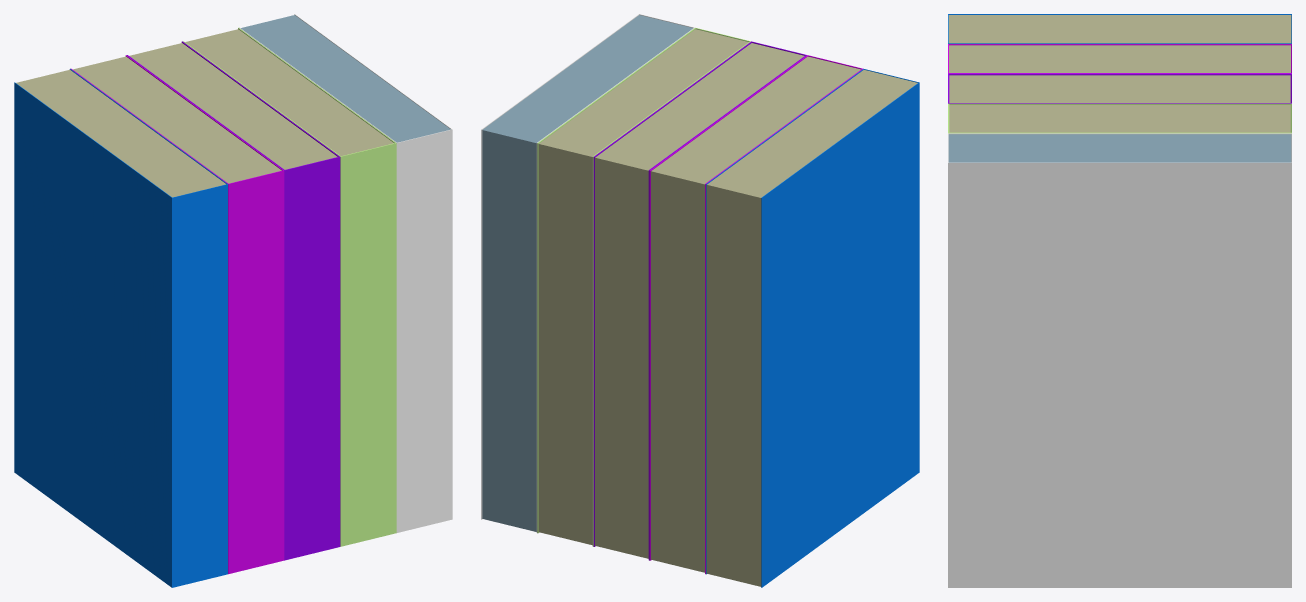
File: book-example.fbx
3 renders of one model, left to right at view 1: azimuth 30°, elevation 25°; view 2: azimuth 150°, elevation 25°; view 3: azimuth 270°, elevation 25°, orthographic. The views are drawn at different scales.
Parts seen in each view (by area): view 1: Book0, Book4, Book1, Book3, Book2; view 2: Book0, Book4, Book1, Book3, Book2; view 3: Book4, Book2, Book3, Book0, Book1.
Part boxes in pixels (<box>): Book0: <box>14,69,227,587</box>; Book4: <box>239,14,452,532</box>; Book1: <box>70,55,284,574</box>; Book3: <box>183,27,396,546</box>; Book2: <box>127,41,340,560</box>; Book0: <box>706,69,919,587</box>; Book4: <box>481,14,694,532</box>; Book1: <box>649,55,863,574</box>; Book3: <box>537,27,750,546</box>; Book2: <box>593,41,806,560</box>; Book4: <box>948,133,1291,587</box>; Book2: <box>948,73,1291,103</box>; Book3: <box>948,103,1291,133</box>; Book0: <box>948,14,1291,43</box>; Book1: <box>948,44,1291,73</box>.
Bounding box in the file's own units: 22.58 × 30 × 22.
